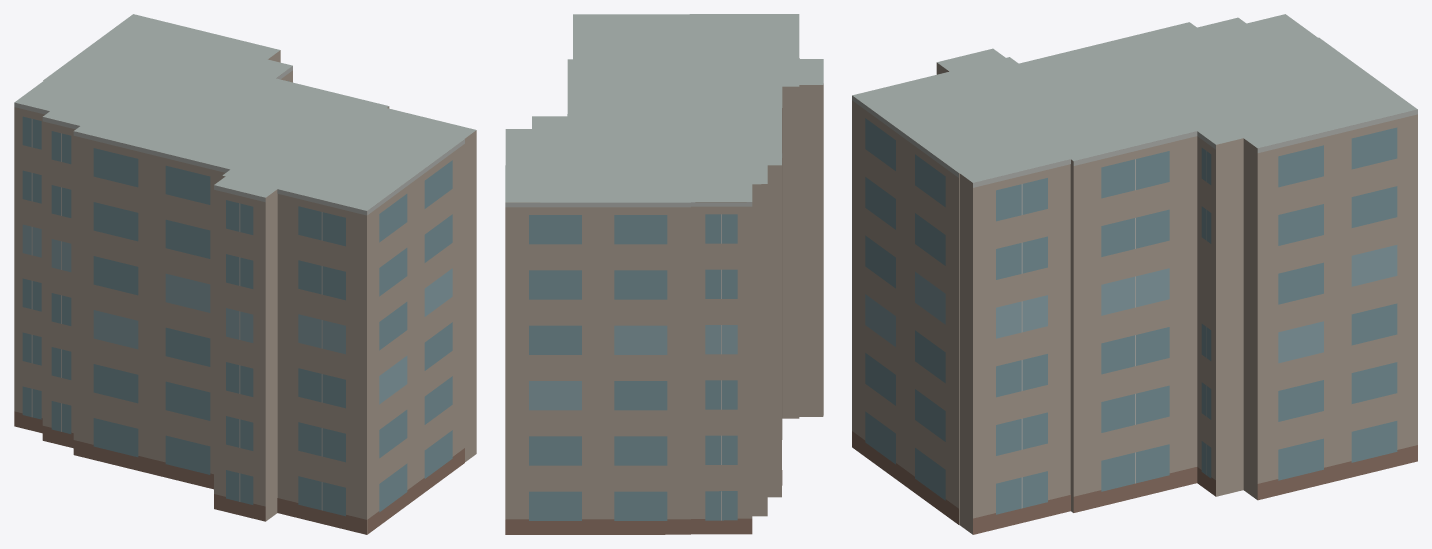
Rendered from survey-upis-33013546.glb.
3 views of the same model, side by side, from view 1: azimuth 30°, elevation 25°; view 2: azimuth 150°, elevation 25°; view 3: azimuth 270°, elevation 25° (orthographic). The views are drawn at different scales.
Visible parts, largest first — view 1: survey-upis-33013546.tmp; view 2: survey-upis-33013546.tmp; view 3: survey-upis-33013546.tmp.
Boxes of the visible parts, x1=… form: survey-upis-33013546.tmp: x1=14, y1=14, x2=476, y2=534; survey-upis-33013546.tmp: x1=505, y1=14, x2=823, y2=534; survey-upis-33013546.tmp: x1=852, y1=14, x2=1417, y2=534.
Bounding box in the file's own units: 17.82 × 17.3 × 25.21.
